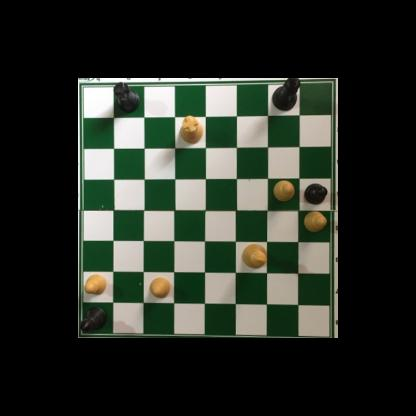black-bishop: (79, 305, 109, 334)
black-king: (272, 79, 302, 114)
black-pawn: (303, 182, 327, 205)
black-rook: (110, 79, 140, 114)
white-king: (241, 242, 267, 269)
white-pawn: (82, 272, 108, 296), (149, 275, 172, 299), (272, 179, 296, 202), (302, 211, 327, 233)
white-rook: (179, 115, 204, 145)
